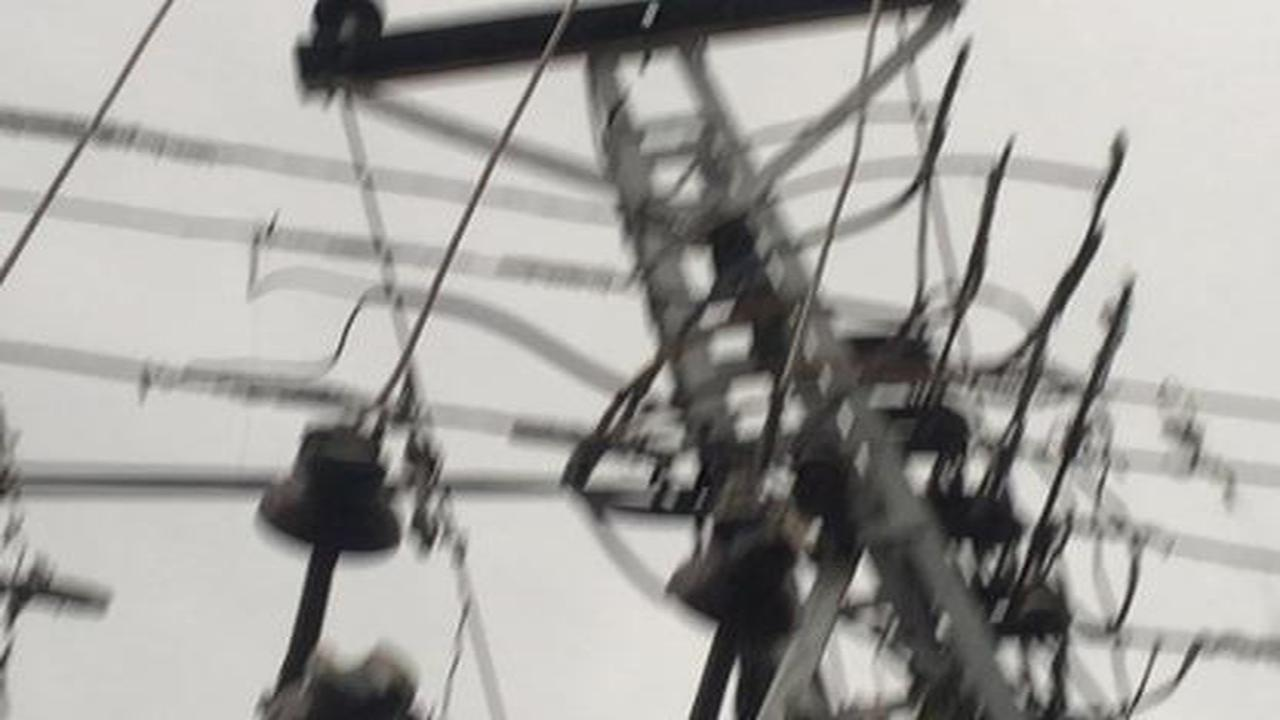insulator_pin: (250, 414, 403, 553), (667, 497, 807, 642)
